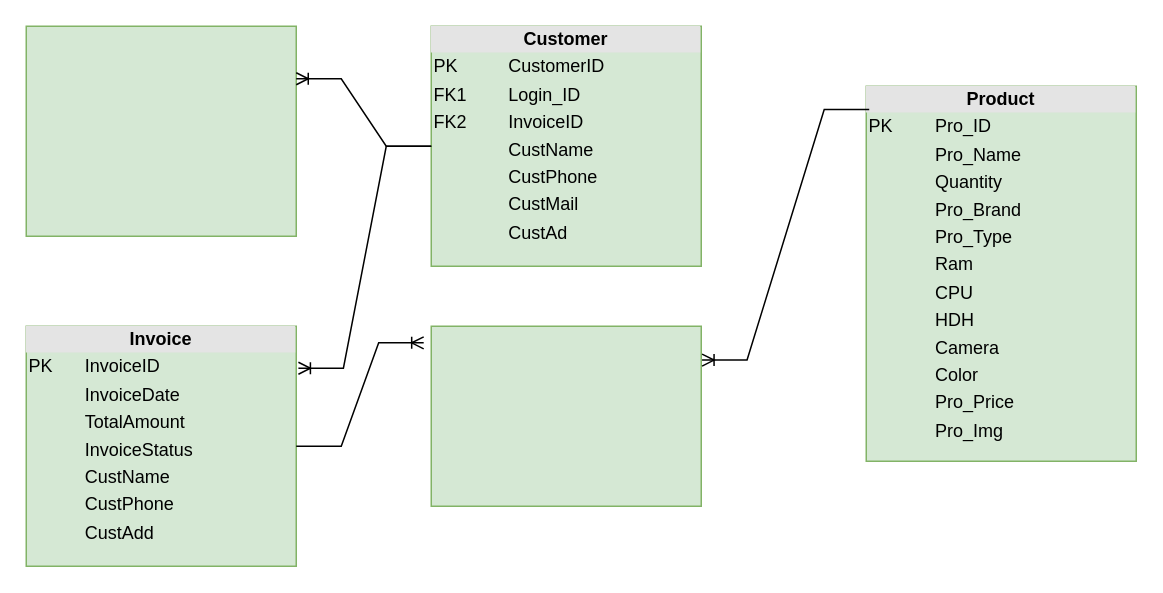
This 1163x593 diagram has some shape labels left out. The shapes that lost their labels are listed below. From the top down, each one's centre as x and y in pixels, then its label:
the point at 160,130: Login_Info PK Login_ID UserName Passw Email Login_role Login_Status
the point at 565,415: InvoiceDetail PK InvoiceDetailID FK1 InvoiceID FK2 ProductID Quantity Subtotal
